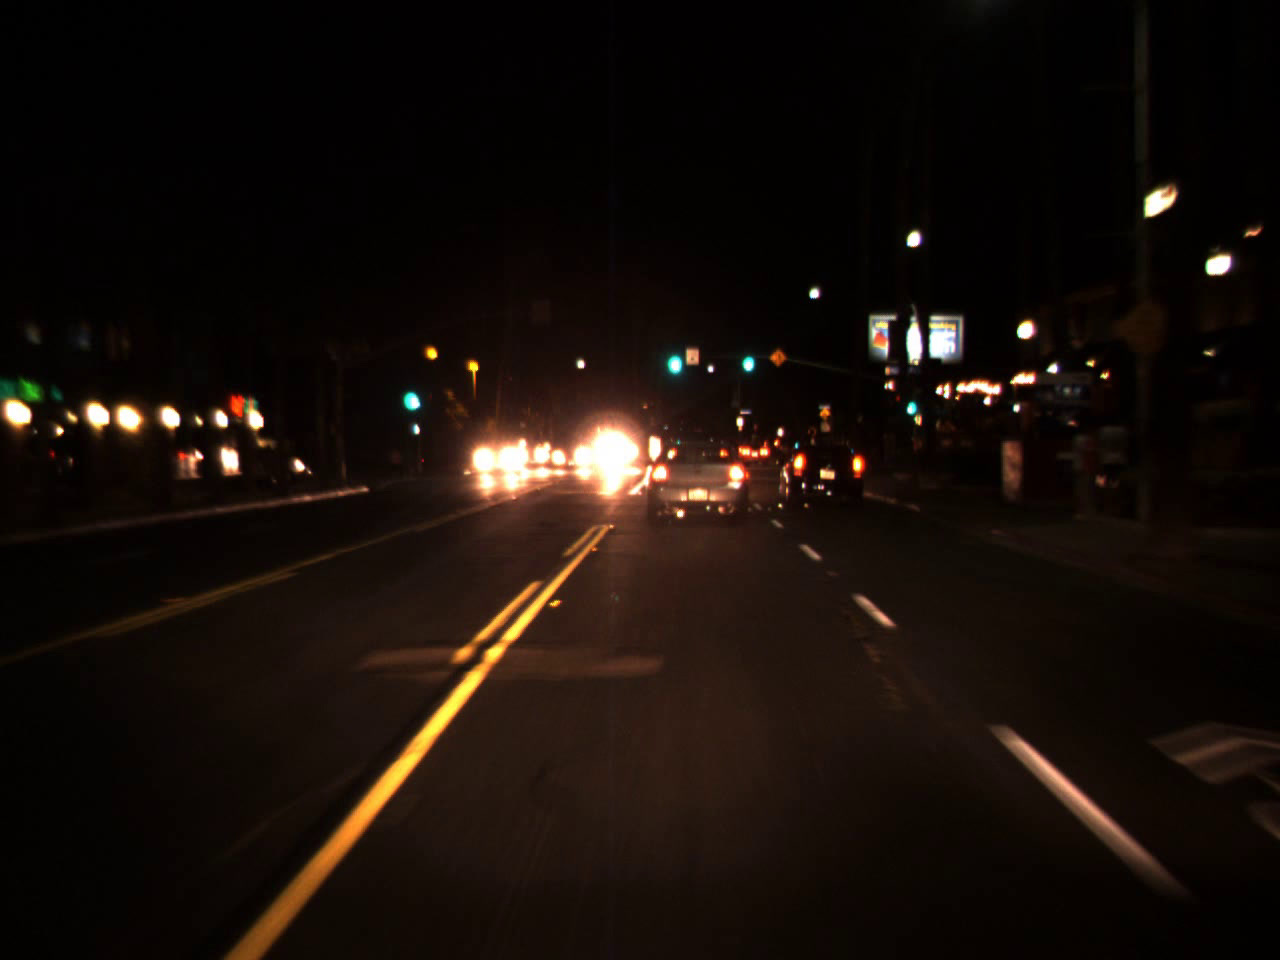go: (661, 333, 684, 381), (399, 369, 418, 417), (901, 379, 919, 424), (737, 341, 756, 374)
